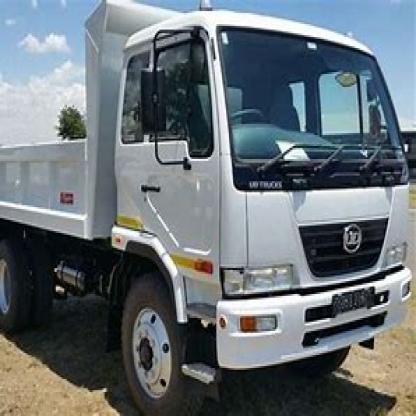dump_truck: (6, 4, 414, 406)
